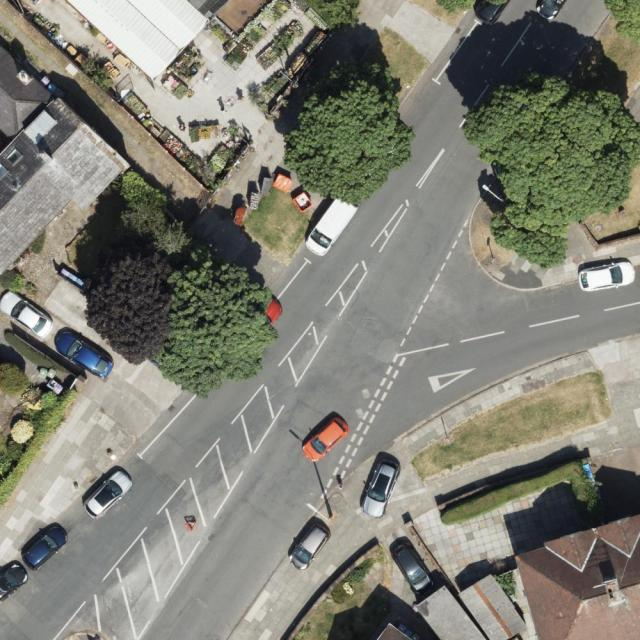roof: (0, 44, 130, 277), (513, 515, 640, 640), (68, 0, 211, 80), (417, 573, 529, 640), (376, 625, 416, 640)
skylight: (6, 147, 25, 167), (0, 163, 8, 179)
